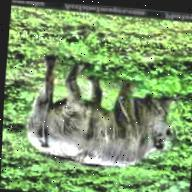boar: (23, 54, 184, 175)
